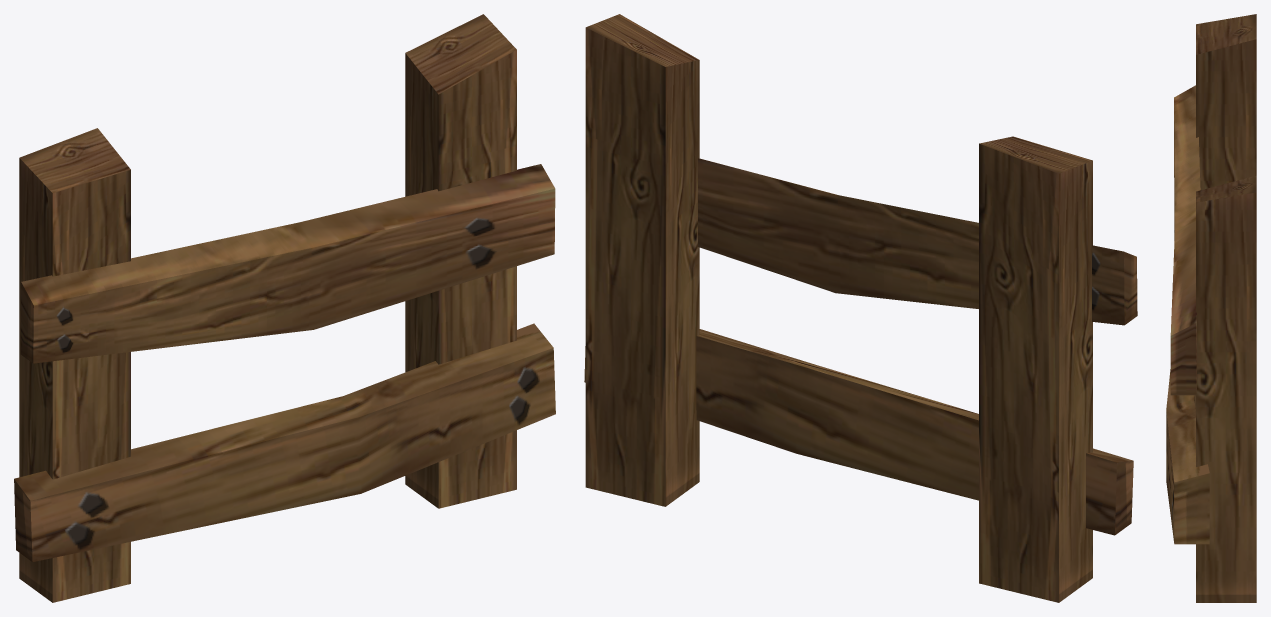
File: fanasty_mod_gro_fence02.fbx
3 renders of one model, left to right at view 1: azimuth 30°, elevation 25°; view 2: azimuth 150°, elevation 25°; view 3: azimuth 270°, elevation 25°, orthographic. The views are drawn at different scales.
Parts seen in each view (by area): view 1: gro_fence_02; view 2: gro_fence_02; view 3: gro_fence_02.
Boxes of the visible parts, box(x1,y1,x2,y2) form: gro_fence_02: box(14, 14, 555, 602); gro_fence_02: box(584, 14, 1137, 602); gro_fence_02: box(1166, 14, 1256, 602).
Bounding box in the file's own units: 1.63 × 1.34 × 0.2681.
